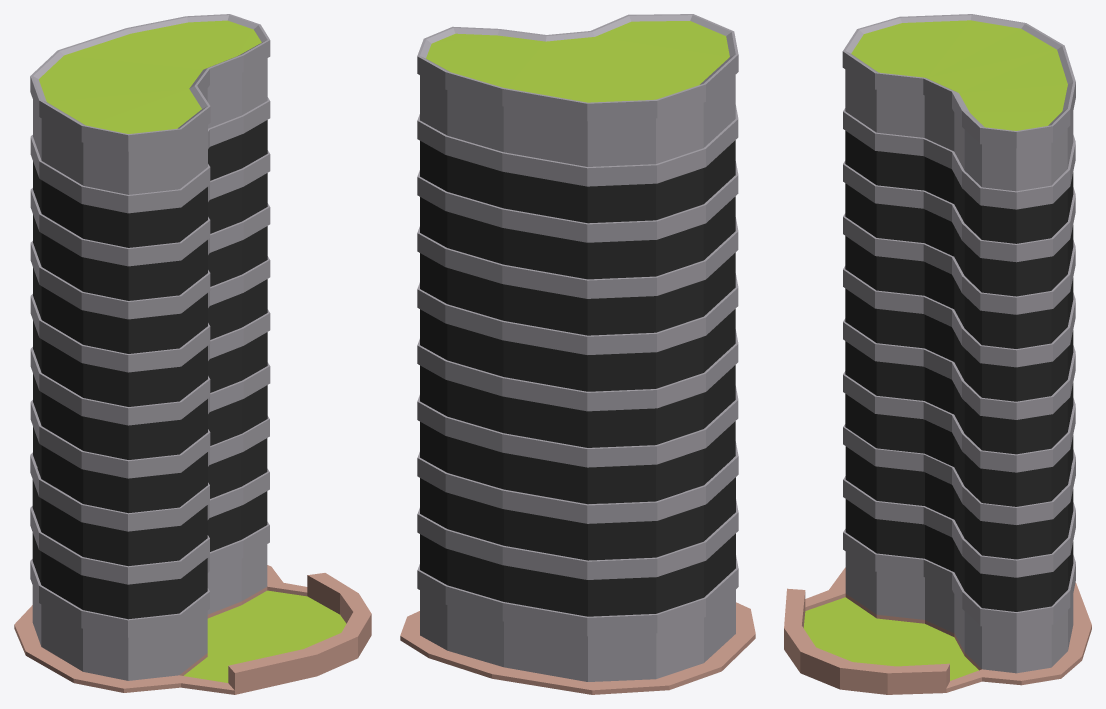
Rendered from Building2.fbx.
3 views of the same model, side by side, from view 1: azimuth 30°, elevation 25°; view 2: azimuth 150°, elevation 25°; view 3: azimuth 270°, elevation 25° (orthographic). The views are drawn at different scales.
Parts seen in each view (by area): view 1: building_2; view 2: building_2; view 3: building_2.
Part boxes in pixels (box(x1,y1,x2,y2)): building_2: box(14, 14, 371, 694); building_2: box(400, 14, 755, 694); building_2: box(784, 14, 1091, 694).
Bounding box in the file's own units: 6287 × 11368 × 5802.
